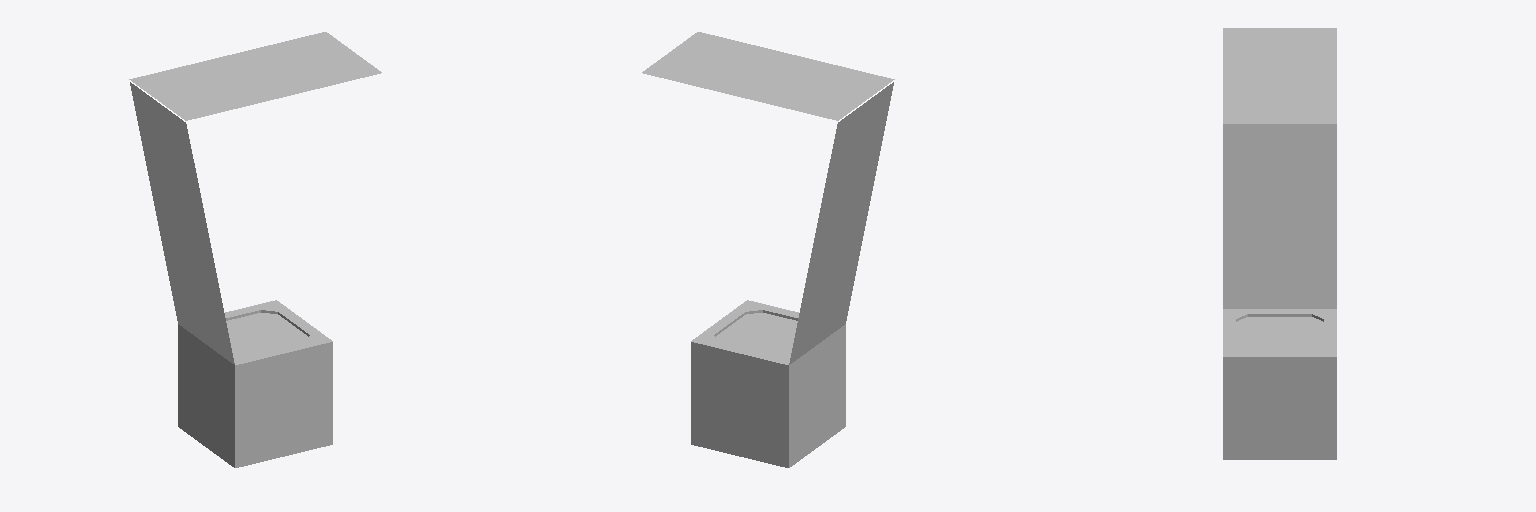
File: Space Hulk Acenssion inspired modular enviroemnt part 3.obj
3 renders of one model, left to right at view 1: azimuth 30°, elevation 25°; view 2: azimuth 150°, elevation 25°; view 3: azimuth 270°, elevation 25°, orthographic.
Parts seen in each view (by area): view 1: Cube, Wall01_Plane.001, Plane_Plane.002, Floor01_Plane; view 2: Cube, Wall01_Plane.001, Plane_Plane.002, Floor01_Plane; view 3: Wall01_Plane.001, Cube, Plane_Plane.002, Floor01_Plane.
Boxes of the visible parts, box(x1,y1,x2,y2) form: Cube: box(178, 324, 332, 467); Wall01_Plane.001: box(130, 82, 234, 364); Plane_Plane.002: box(129, 32, 381, 120); Floor01_Plane: box(225, 300, 332, 364); Cube: box(691, 324, 845, 467); Wall01_Plane.001: box(789, 82, 893, 364); Plane_Plane.002: box(642, 32, 894, 120); Floor01_Plane: box(691, 300, 798, 364); Wall01_Plane.001: box(1223, 124, 1336, 308); Cube: box(1223, 357, 1336, 459); Plane_Plane.002: box(1223, 28, 1336, 123); Floor01_Plane: box(1223, 309, 1336, 356).
Size of the model in its own units: 3 by 5.24 by 1.5.